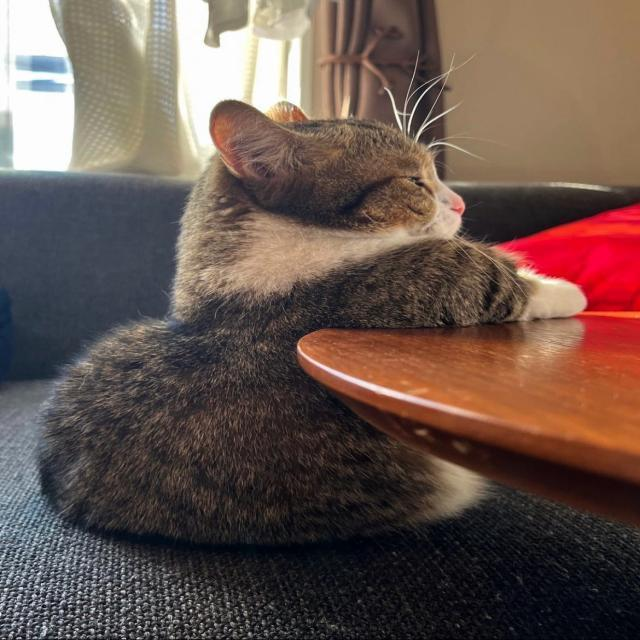da khoe manh: (123, 343, 314, 509)
